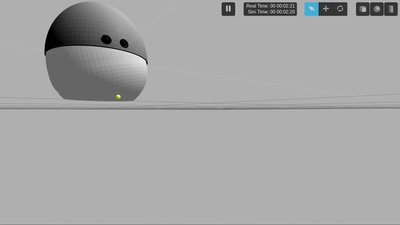mira_robot: (44, 1, 148, 101)
